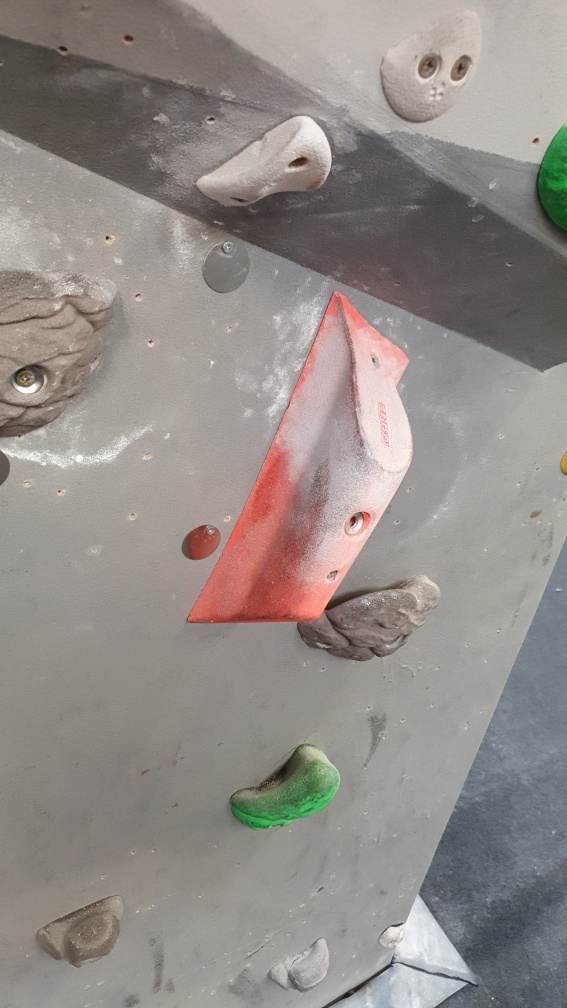Hand Start: (197, 237, 260, 301), (176, 519, 223, 561)
Jug: (292, 571, 440, 668), (222, 741, 346, 831), (264, 932, 342, 996)
Pinch: (179, 289, 419, 628)
